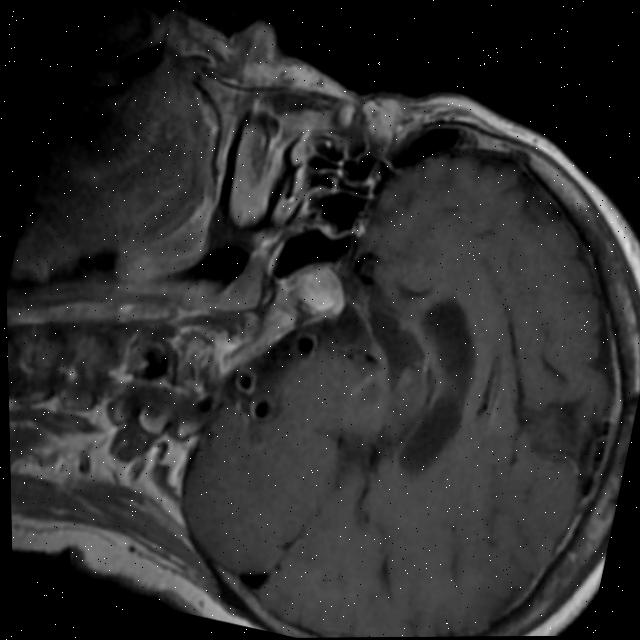Pituitary: (282, 256, 352, 321)
